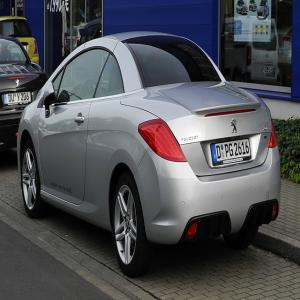Vehicle-registration-plate: (217, 137, 249, 170), (4, 92, 32, 105), (13, 46, 28, 54)
